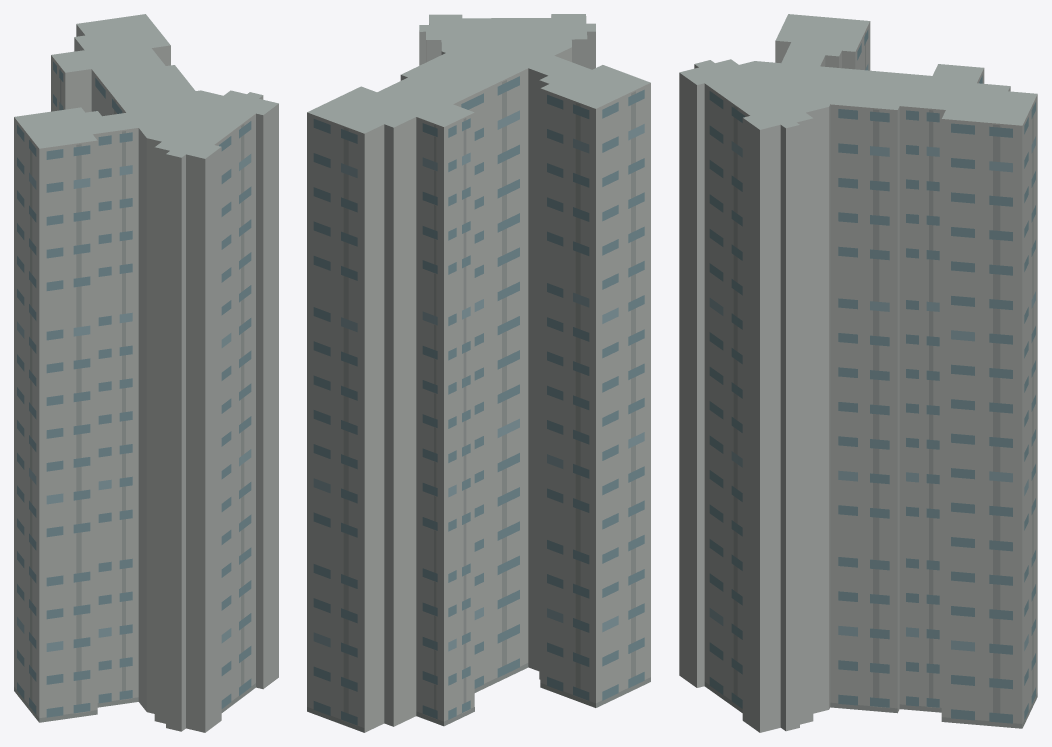
The model's file is residential-b66df1ee-eac6-42fd-a6fa-8300d14fd7ad.glb.
3 views of the same model, side by side, from view 1: azimuth 30°, elevation 25°; view 2: azimuth 150°, elevation 25°; view 3: azimuth 270°, elevation 25° (orthographic). The views are drawn at different scales.
Visible parts, largest first — view 1: residential-b66df1ee-eac6-42fd-a6fa-8300d14fd7ad.tmp; view 2: residential-b66df1ee-eac6-42fd-a6fa-8300d14fd7ad.tmp; view 3: residential-b66df1ee-eac6-42fd-a6fa-8300d14fd7ad.tmp.
Part boxes in pixels (bbox=[...]): residential-b66df1ee-eac6-42fd-a6fa-8300d14fd7ad.tmp: bbox=[14, 14, 278, 732]; residential-b66df1ee-eac6-42fd-a6fa-8300d14fd7ad.tmp: bbox=[307, 14, 650, 732]; residential-b66df1ee-eac6-42fd-a6fa-8300d14fd7ad.tmp: bbox=[679, 14, 1037, 732].
Bounding box in the file's own units: 43.3 × 105 × 56.58.
